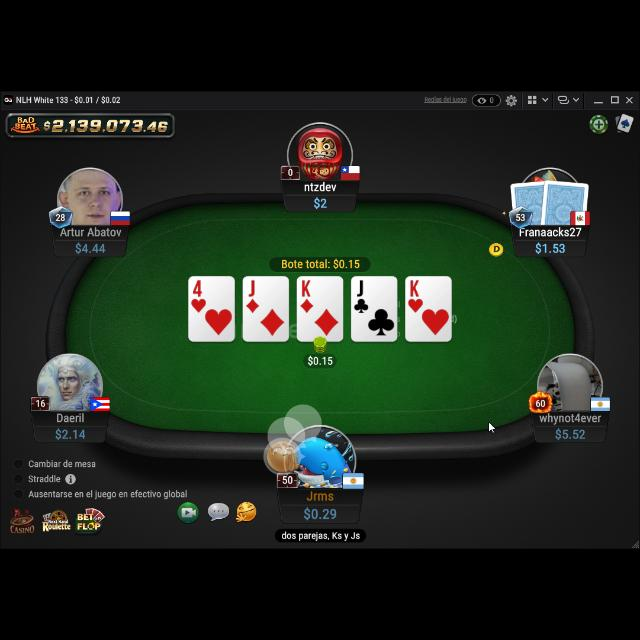4h: (190, 277, 208, 313)
Jc: (352, 278, 370, 316)
Jd: (246, 278, 260, 314)
Kd: (299, 278, 315, 314)
Kh: (406, 278, 424, 314)
bet_text: (308, 354, 334, 366)
card_back: (539, 178, 591, 228), (508, 178, 552, 228)
dealer: (487, 240, 505, 258)
pot_text: (280, 258, 362, 270)
stack_text: (302, 504, 338, 522), (534, 240, 566, 256), (553, 426, 587, 440), (74, 240, 108, 253), (56, 427, 86, 441), (312, 196, 330, 210)
